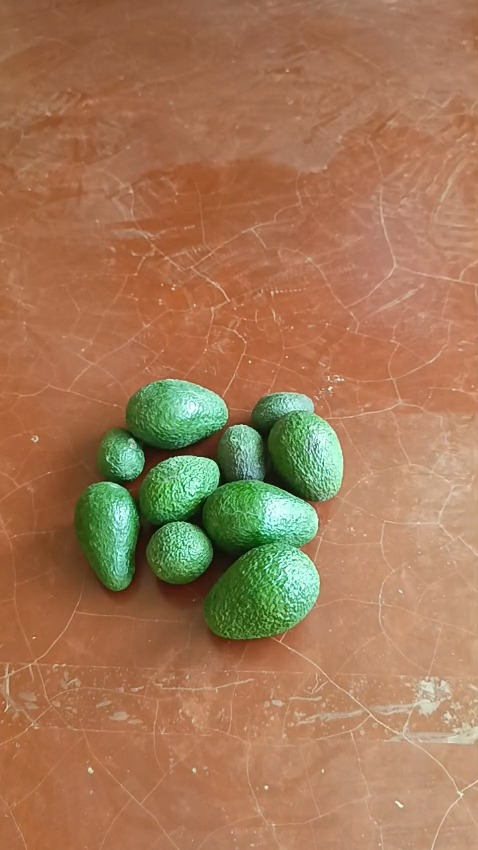Primera: (203, 542, 320, 638), (202, 479, 318, 554), (124, 379, 229, 450), (266, 411, 343, 500)
Segunda: (74, 480, 142, 591), (138, 455, 220, 525)
Tercera: (144, 519, 215, 585), (216, 424, 267, 483), (96, 427, 146, 484), (250, 392, 316, 435)
